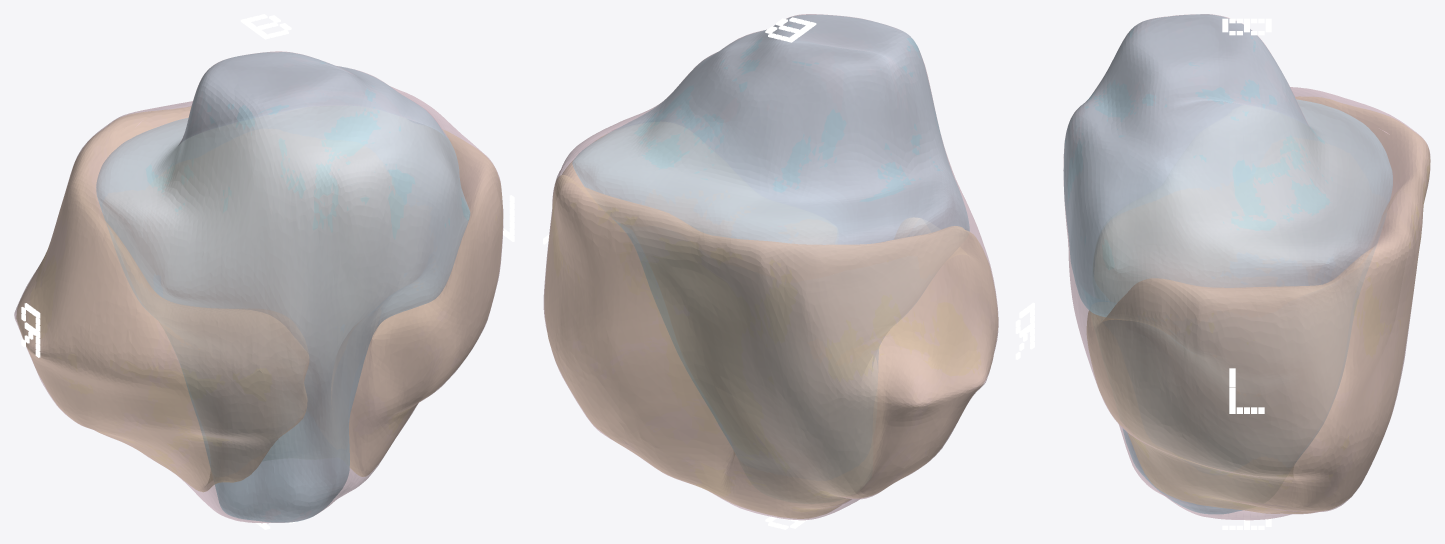
3 renders of one model, left to right at view 1: azimuth 30°, elevation 25°; view 2: azimuth 150°, elevation 25°; view 3: azimuth 270°, elevation 25°, orthographic.
Parts seen in each view (by area): view 1: prostate_gland, transition_zone, peripheral_zone, pv_ar_marker_B, pv_ar_marker_R; view 2: prostate_gland, peripheral_zone, transition_zone, pv_ar_marker_B, pv_ar_marker_R; view 3: prostate_gland, transition_zone, peripheral_zone, pv_ar_marker_B, pv_ar_marker_L, pv_ar_marker_A.
Boxes of the visible parts, x1,y1,x2,y2 form: prostate_gland: (14,51,503,523); transition_zone: (96,52,470,522); peripheral_zone: (16,106,502,491); pv_ar_marker_B: (240,14,291,39); pv_ar_marker_R: (21,303,40,357); prostate_gland: (543,14,998,520); peripheral_zone: (544,134,997,518); transition_zone: (572,15,969,450); pv_ar_marker_B: (765,17,816,42); pv_ar_marker_R: (1015,302,1034,359); prostate_gland: (1063,14,1430,520); transition_zone: (1064,14,1392,513); peripheral_zone: (1087,96,1430,513); pv_ar_marker_B: (1222,18,1271,35); pv_ar_marker_L: (1229,368,1264,413); pv_ar_marker_A: (1222,513,1271,529).
Size of the model in its own units: 0.0534 by 0.0528 by 0.0353.
